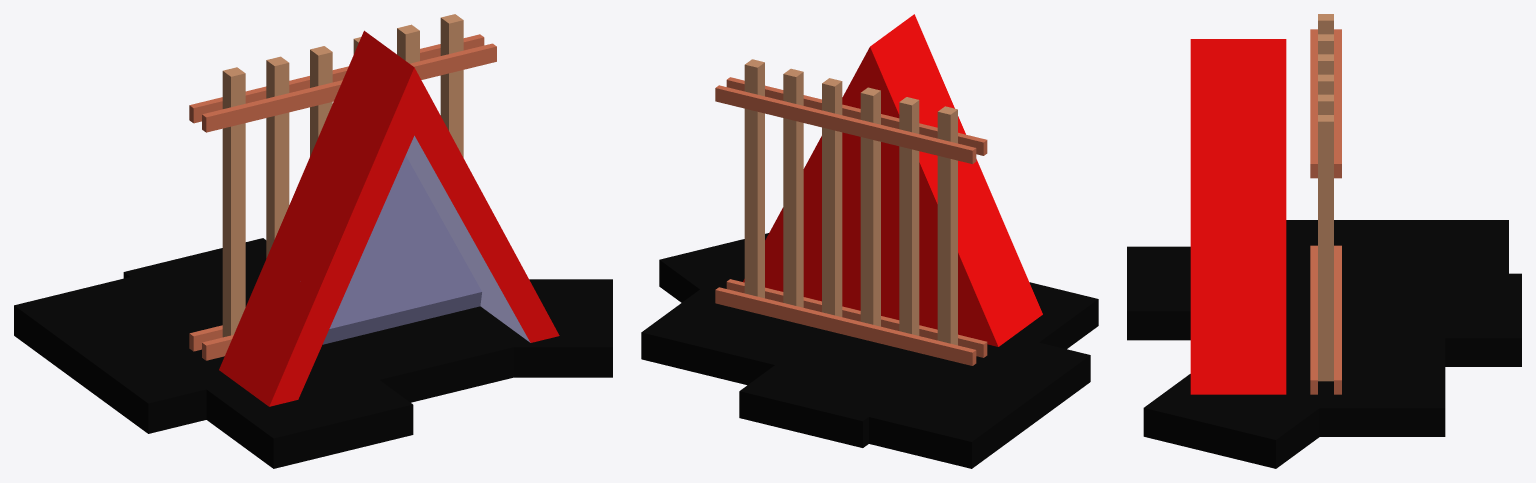
Rendered from grabe.fbx.
The picture shows the model from 3 angles, left to right: view 1: azimuth 30°, elevation 25°; view 2: azimuth 150°, elevation 25°; view 3: azimuth 270°, elevation 25°; orthographic projection. The views are drawn at different scales.
Parts seen in each view (by area): view 1: block (×5), rail_frontPointDeck, rail_frontPoint, gate; view 2: block (×5), gate, rail_frontPointDeck, rail_frontPoint; view 3: block (×5), rail_frontPointDeck, rail_frontPoint, gate.
Boxes of the visible parts, box(x1,y1,x2,y2) form: block (×5): box(14, 238, 612, 468); rail_frontPointDeck: box(219, 30, 496, 394); rail_frontPoint: box(252, 55, 559, 406); gate: box(189, 14, 496, 360); block (×5): box(641, 233, 1098, 468); gate: box(715, 59, 987, 365); rail_frontPointDeck: box(743, 25, 1027, 346); rail_frontPoint: box(900, 14, 1042, 324); block (×5): box(1127, 220, 1521, 468); rail_frontPointDeck: box(1222, 39, 1286, 394); rail_frontPoint: box(1190, 39, 1222, 394); gate: box(1310, 14, 1341, 394).
Size of the model in its own units: 16.37 by 11 by 12.4.
